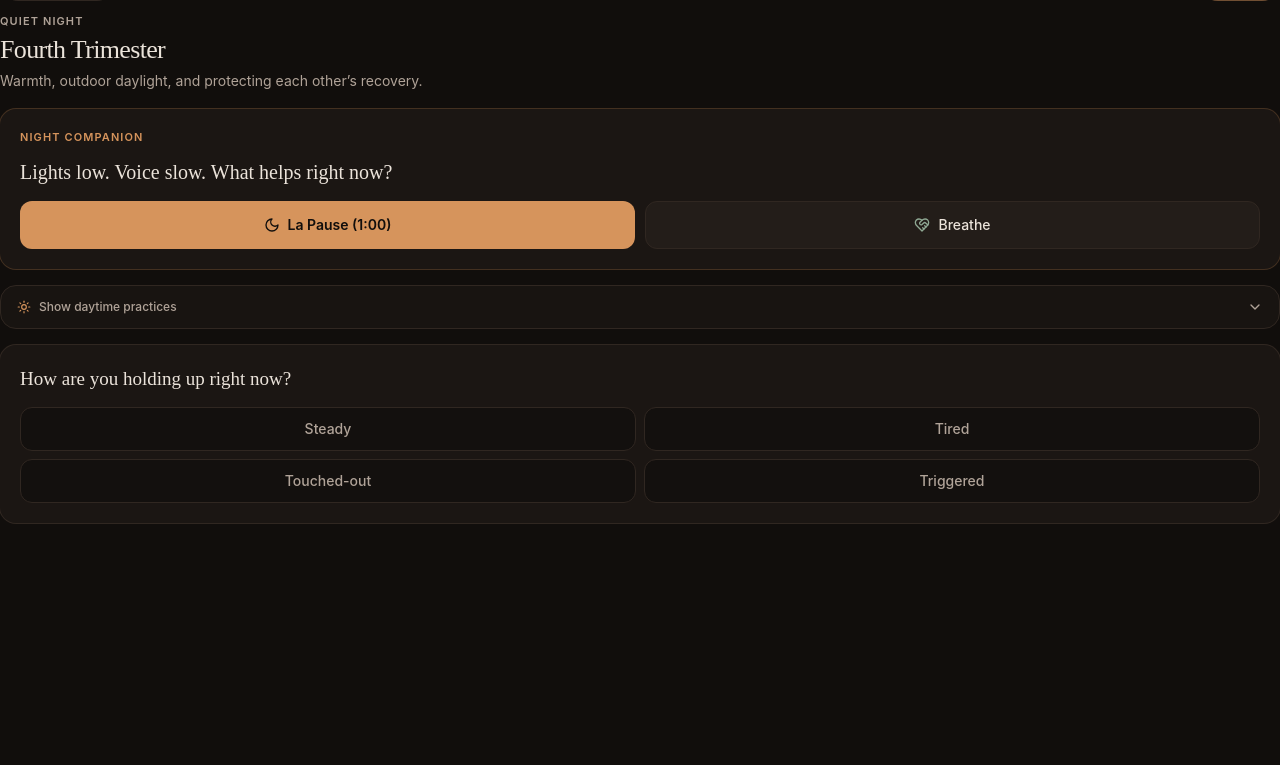
Test: TodayView › tucks daytime cards behind 1 tap during deep night (2:30 AM) while keeping Night Companion primary
The image size is (1280, 765).
Expected: the element "Night Companion" is shown, [0,109,1279,269]
Click the button "Show daytime practices" at x=108, y=306, box [0,285,1279,329]
(page scrolled)
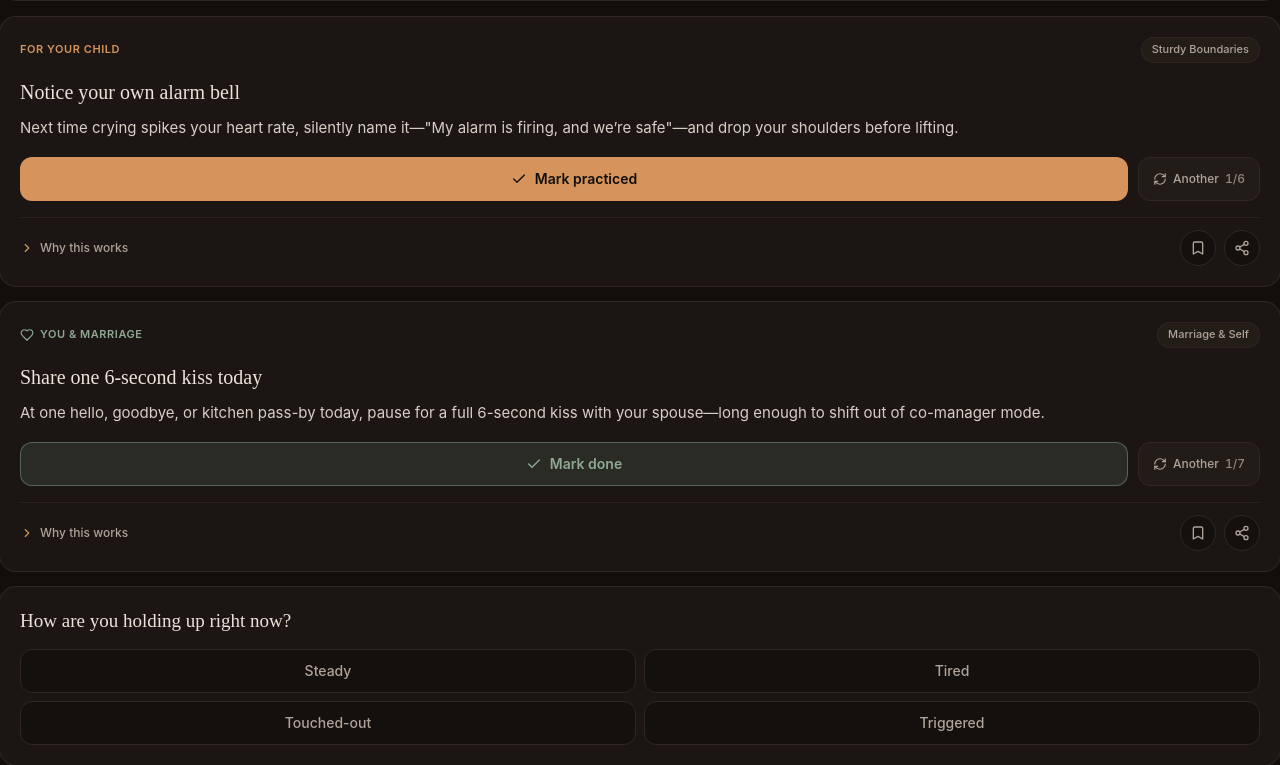
Expected: the element named "Today's Practice" is shown, [0,17,1279,286]
Expected: the element named "For You and Your Marriage" is shown, [0,302,1279,570]
